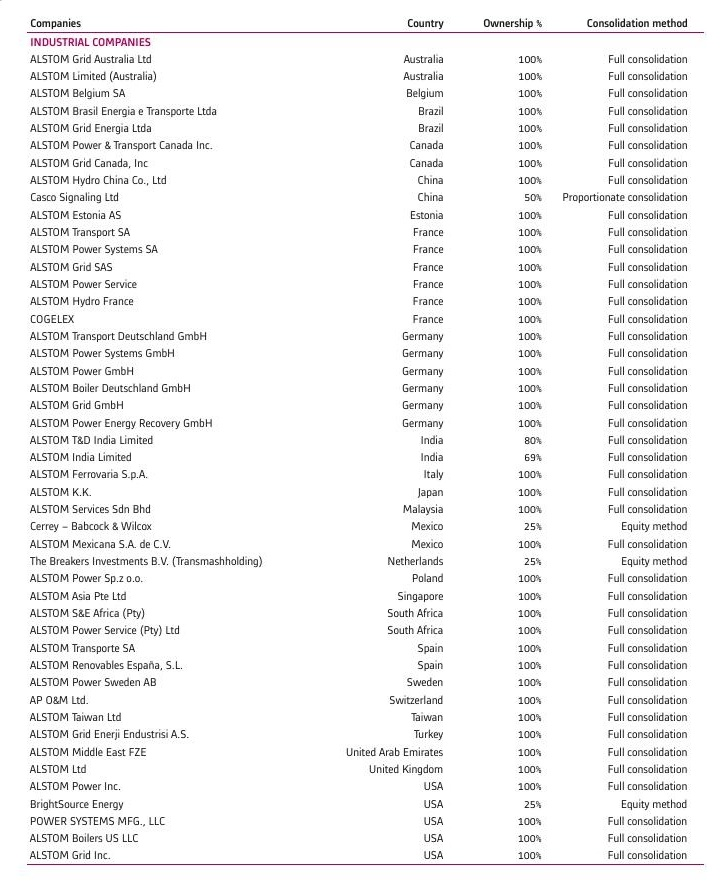table: (0, 0, 723, 889)
